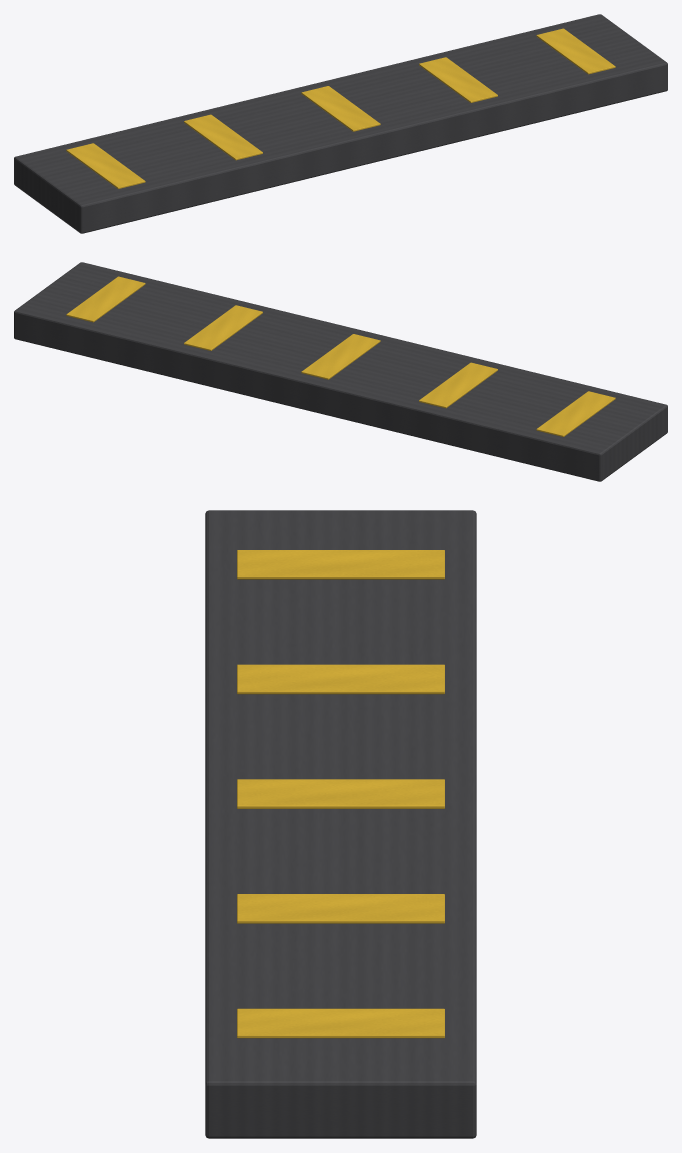
Rendered from floor_cable_ramp.glb.
3 views of the same model, one above another, from view 1: azimuth 30°, elevation 25°; view 2: azimuth 150°, elevation 25°; view 3: azimuth 270°, elevation 25° (orthographic). The views are drawn at different scales.
Parts seen in each view (by area): view 1: ramp, mark, mark.002, mark.001, mark.003, mark.004; view 2: ramp, mark, mark.002, mark.001, mark.003, mark.004; view 3: ramp, mark.001, mark.004, mark, mark.002, mark.003.
Boxes of the visible parts, bbox=[...] form: ramp: bbox=[14, 14, 667, 233]; mark: bbox=[66, 143, 145, 188]; mark.002: bbox=[301, 86, 380, 131]; mark.001: bbox=[184, 114, 262, 160]; mark.003: bbox=[419, 57, 497, 102]; mark.004: bbox=[536, 28, 615, 74]; ramp: bbox=[14, 262, 667, 481]; mark: bbox=[536, 391, 615, 436]; mark.002: bbox=[301, 334, 380, 379]; mark.001: bbox=[419, 362, 497, 408]; mark.003: bbox=[184, 305, 262, 350]; mark.004: bbox=[66, 276, 145, 322]; ramp: bbox=[205, 510, 476, 1138]; mark.001: bbox=[237, 664, 444, 694]; mark.004: bbox=[237, 1008, 444, 1038]; mark: bbox=[237, 550, 444, 579]; mark.002: bbox=[237, 779, 444, 808]; mark.003: bbox=[237, 894, 444, 923].
Size of the model in its own units: 1.5 by 0.074 by 0.3.
Materials: 2 (2 with a texture image).
